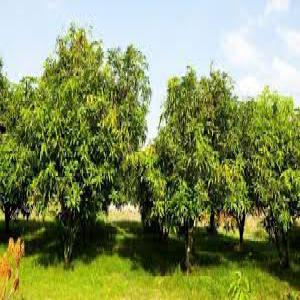Tree: (19, 20, 141, 255), (138, 59, 243, 270), (237, 86, 299, 268)
